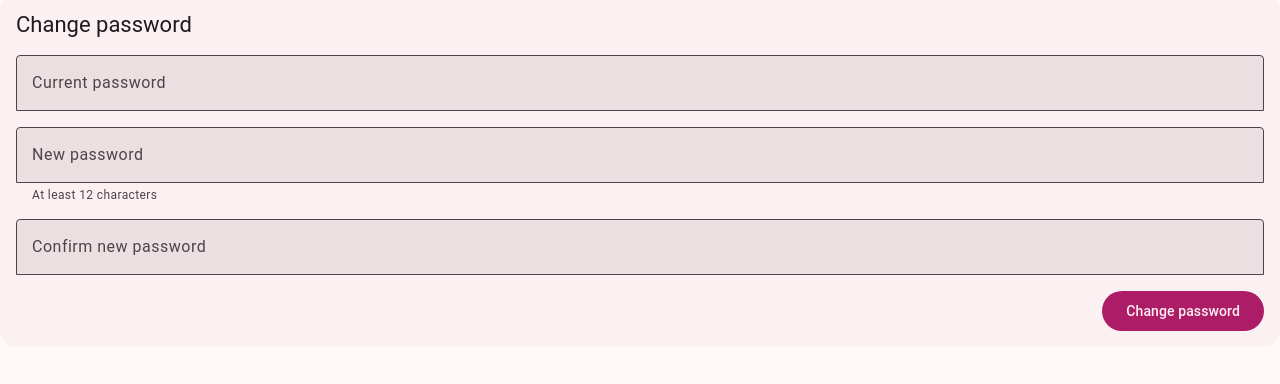
Test case: PasswordCard › shows a wrong current password as an inline error and keeps what was typed
This screenshot has width=1280, height=384.
In the password field with id "account-current-password": (640, 83) [16,55,1264,111], type "wrong-password-1"
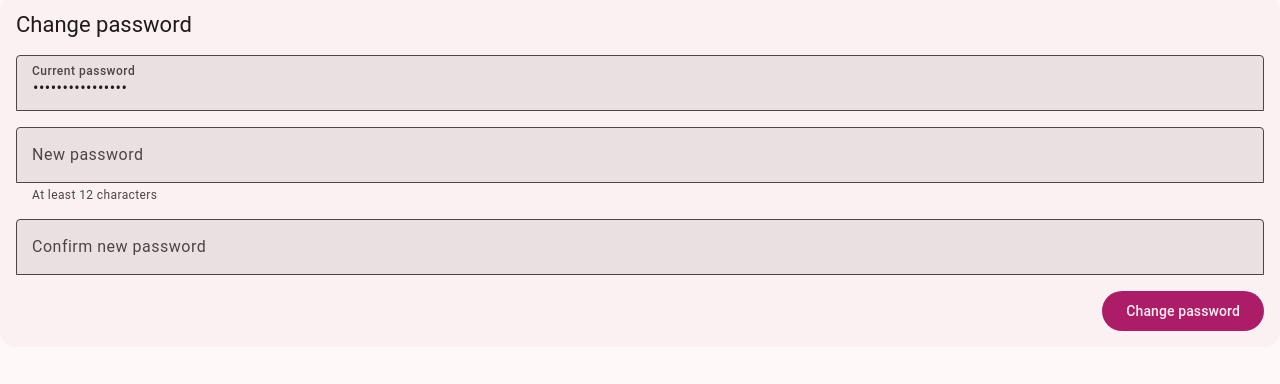
In the password field with id "account-new-password": (640, 155) [16,127,1264,183], type "new-password-123"
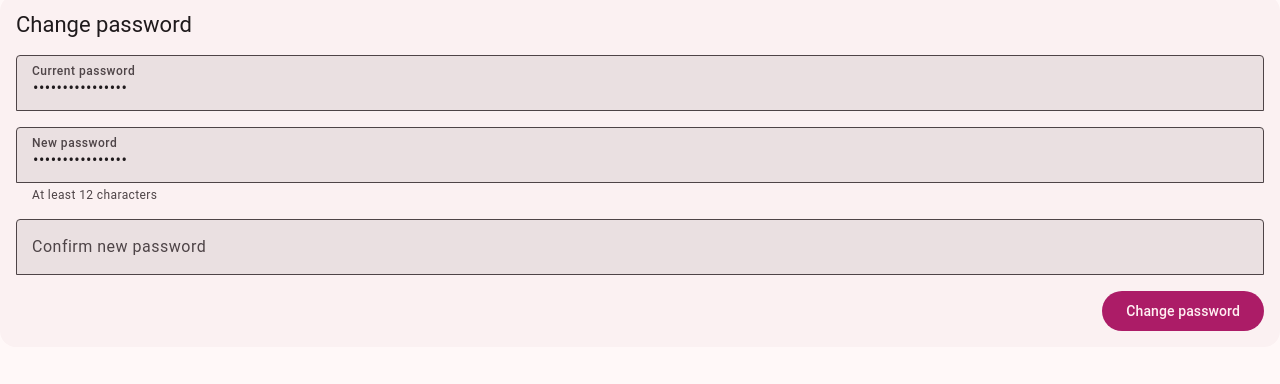
In the password field with id "account-confirm-password": (640, 247) [16,219,1264,275], type "new-password-123"
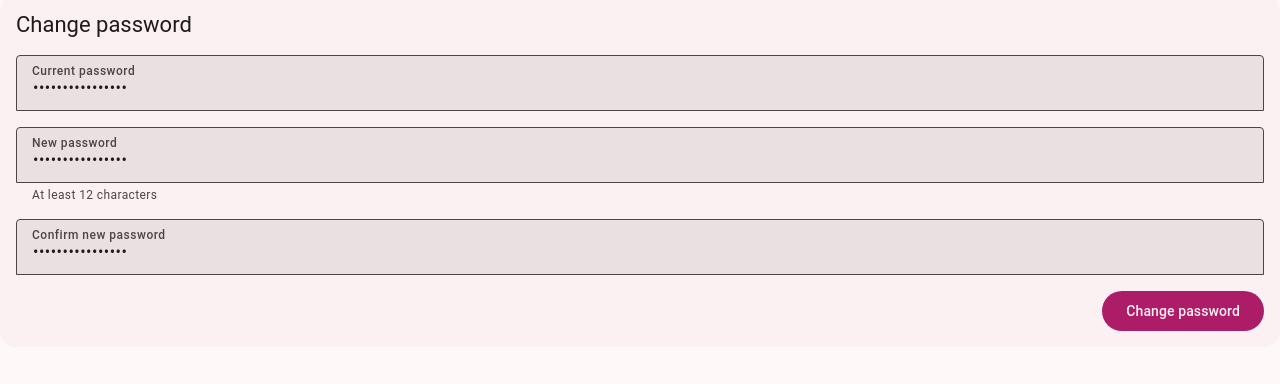
Submit the form
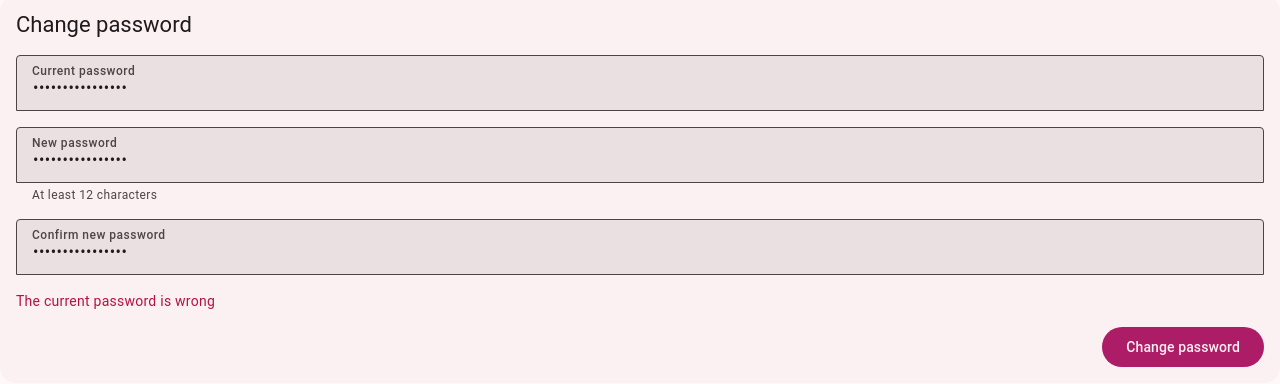
Check: the message "The current password is wrong" is shown, box [16,293,215,309]
